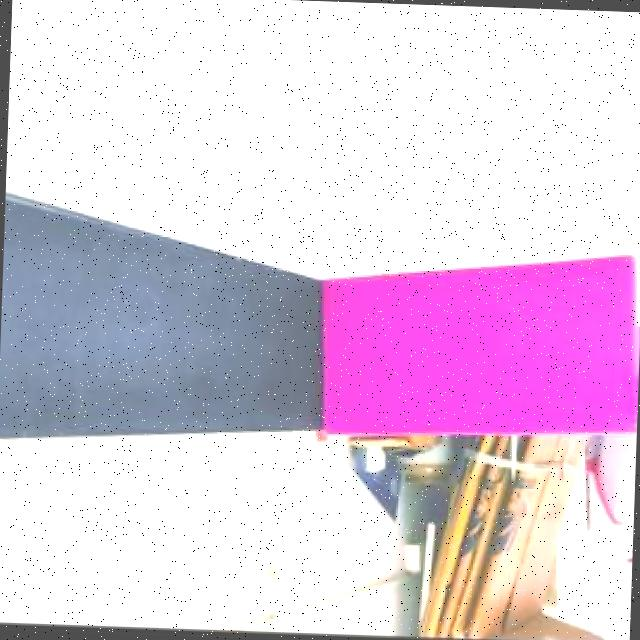xparking: (327, 256, 636, 427)
